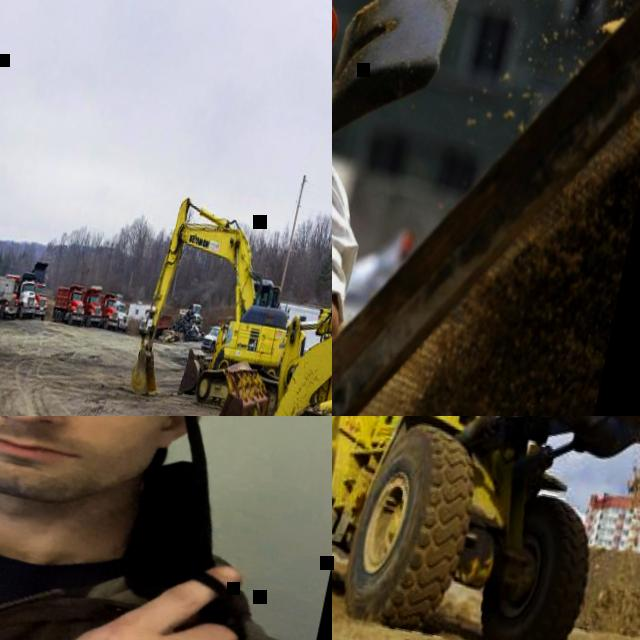Hardhat: (222, 324, 225, 327)
NO-Mask: (0, 416, 192, 526)
NO-Safety Vest: (0, 449, 236, 640)
Person: (0, 416, 332, 640), (332, 0, 429, 416), (213, 323, 226, 360)
Safety Vest: (217, 330, 224, 344)
vehicle: (332, 416, 640, 640), (167, 116, 332, 416), (128, 193, 328, 416), (23, 259, 57, 321), (52, 280, 90, 328), (12, 270, 44, 322), (76, 282, 107, 329), (138, 305, 173, 343), (94, 291, 123, 332), (0, 272, 24, 318), (109, 292, 135, 331), (202, 319, 230, 354), (177, 300, 205, 330)
